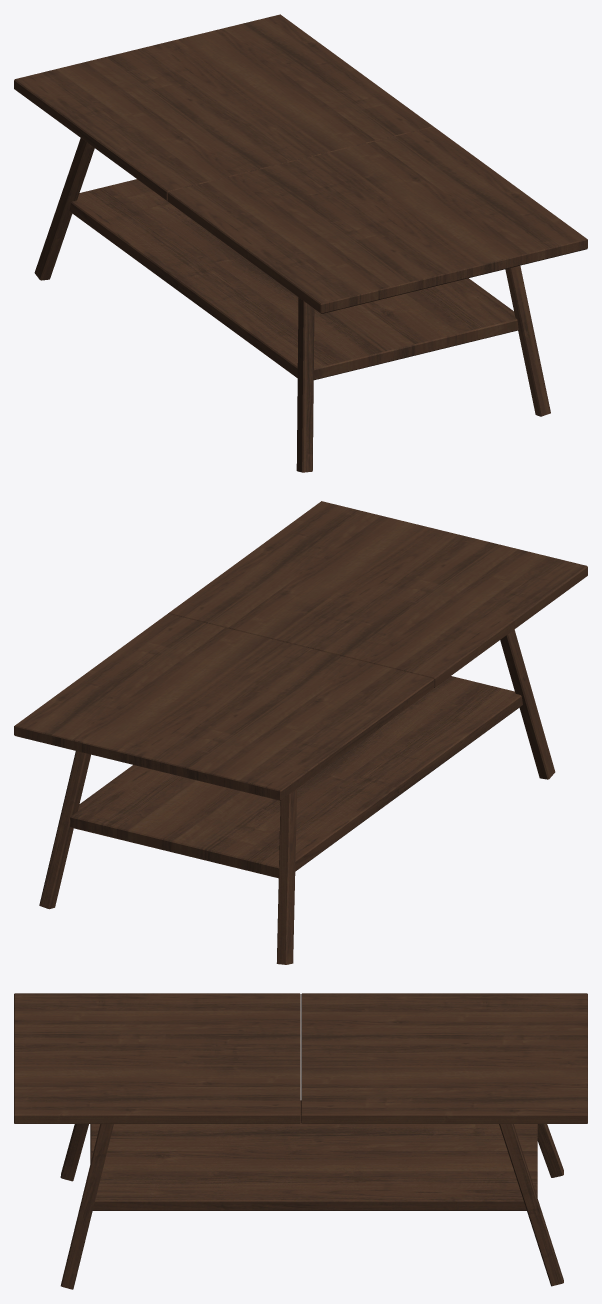
Rendered from o_table_prl.obj.
The picture shows the model from 3 angles, top to bottom: view 1: azimuth 30°, elevation 25°; view 2: azimuth 150°, elevation 25°; view 3: azimuth 270°, elevation 25°; orthographic projection. The views are drawn at different scales.
Visible parts, largest first — view 1: o_table_prl; view 2: o_table_prl; view 3: o_table_prl.
Part boxes in pixels (<box>): o_table_prl: <box>14,14,587,472</box>; o_table_prl: <box>14,501,587,964</box>; o_table_prl: <box>14,993,587,1289</box>.
Bounding box in the file's own units: 84.21 × 58.43 × 168.
1 material, 1 textured.
